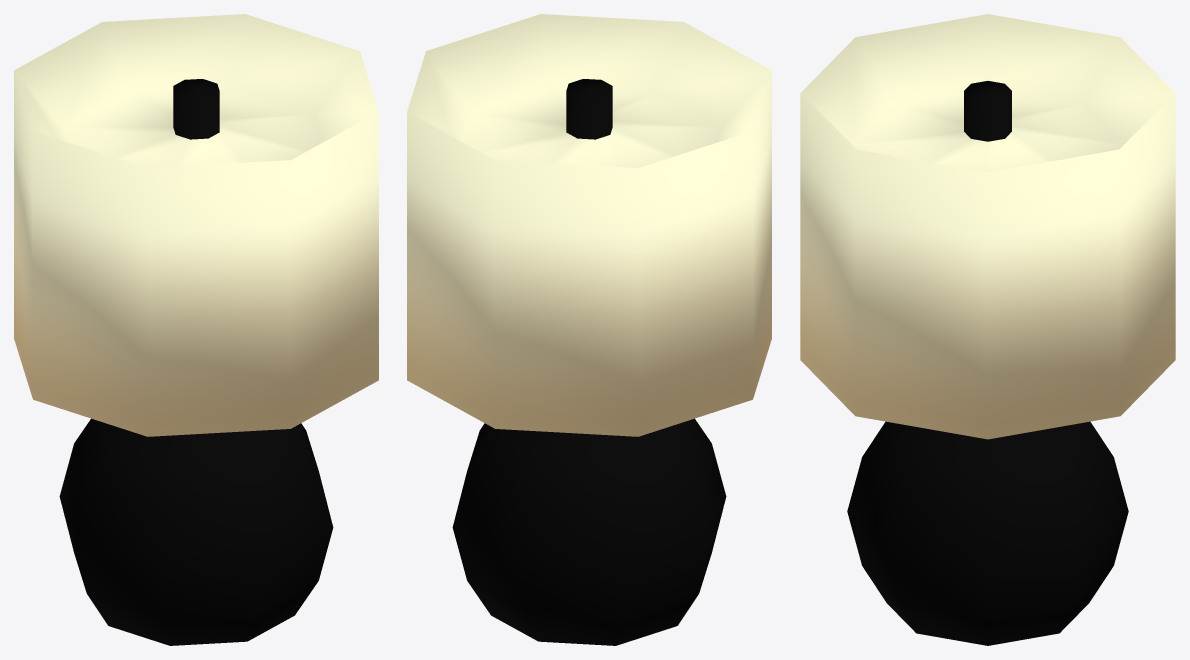
The model's file is Lamp.glb.
3 renders of one model, left to right at view 1: azimuth 30°, elevation 25°; view 2: azimuth 150°, elevation 25°; view 3: azimuth 270°, elevation 25°, orthographic.
Parts seen in each view (by area): view 1: Lamp; view 2: Lamp; view 3: Lamp.
Boxes of the visible parts, box(x1,y1,x2,y2) form: Lamp: box(14, 14, 378, 645); Lamp: box(407, 14, 771, 645); Lamp: box(800, 14, 1175, 645).
Size of the model in its own units: 0.3462 by 0.5219 by 0.3462.
2 materials, 1 textured.
